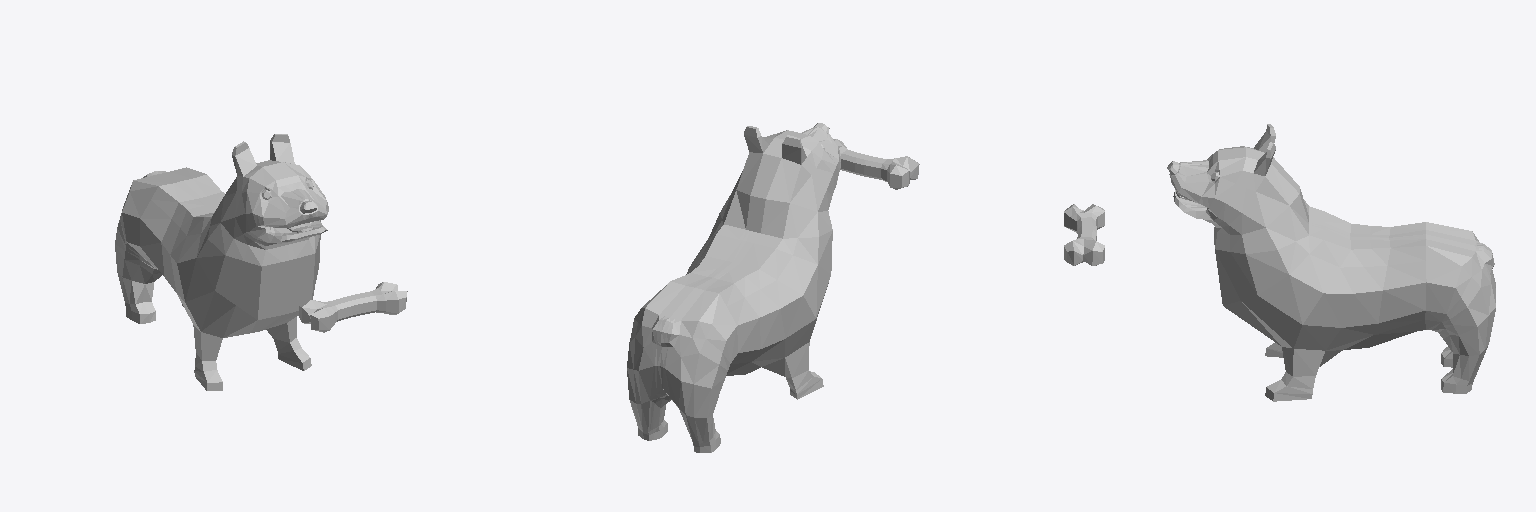
File: lowpolycorg.obj
3 views of the same model, side by side, from view 1: azimuth 30°, elevation 25°; view 2: azimuth 150°, elevation 25°; view 3: azimuth 270°, elevation 25° (orthographic).
Visible parts, largest first — view 1: Corgi_Cube.000, Bone_Cube.003; view 2: Corgi_Cube.000, Bone_Cube.003; view 3: Corgi_Cube.000, Bone_Cube.003.
Boxes of the visible parts, box(x1,y1,x2,y2) form: Corgi_Cube.000: box(115, 134, 328, 390); Bone_Cube.003: box(299, 282, 407, 332); Corgi_Cube.000: box(627, 123, 840, 452); Bone_Cube.003: box(833, 139, 919, 189); Corgi_Cube.000: box(1167, 124, 1495, 401); Bone_Cube.003: box(1064, 204, 1104, 265).
Bounding box in the file's own units: 2.99 × 5.8 × 9.4.